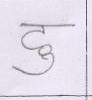u_matra: (13, 51, 58, 77)
